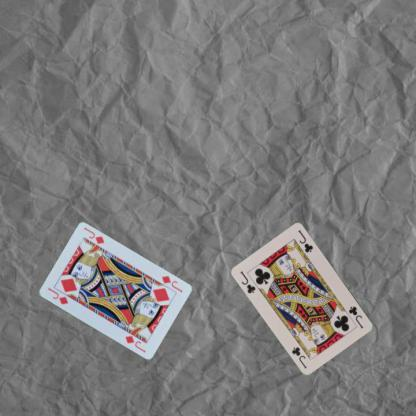Jc: (238, 268, 257, 294), (346, 304, 365, 329)
Jd: (45, 284, 69, 306), (159, 272, 183, 294)
